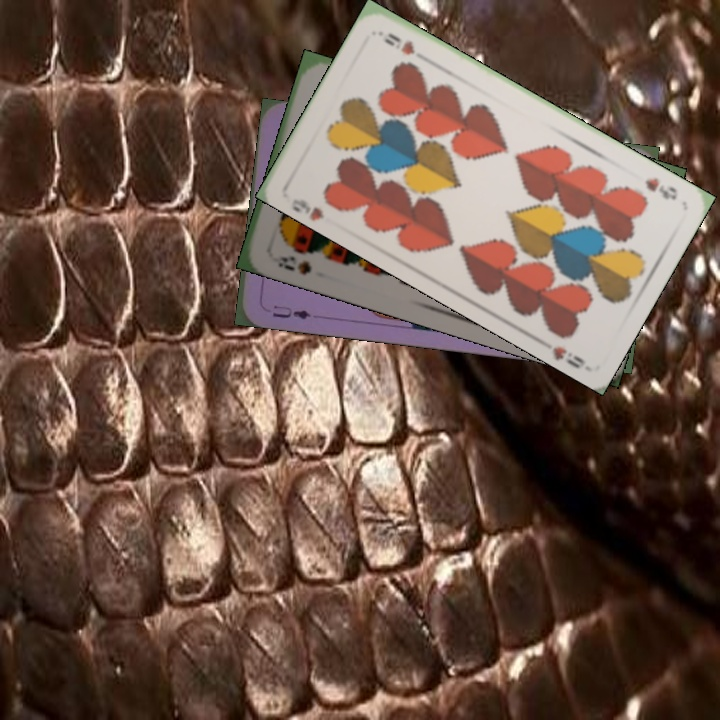EU: (268, 301, 313, 322)
H9: (641, 173, 681, 203), (287, 194, 326, 223)
S8: (269, 251, 314, 278)
